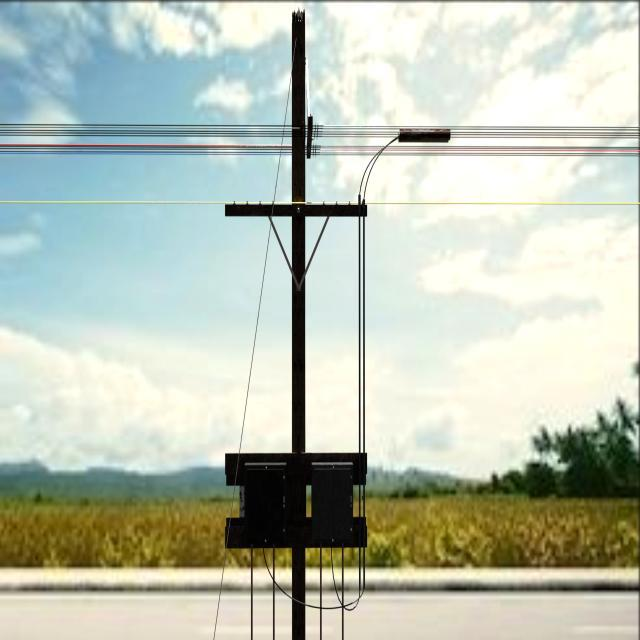crossarm: (225, 515, 369, 552), (225, 453, 366, 486), (223, 203, 368, 220)
pole: (291, 11, 307, 640)
transformer: (310, 459, 353, 533), (243, 465, 284, 535)
wire: (211, 34, 297, 640), (0, 123, 640, 129), (0, 152, 640, 158), (0, 150, 640, 155)
